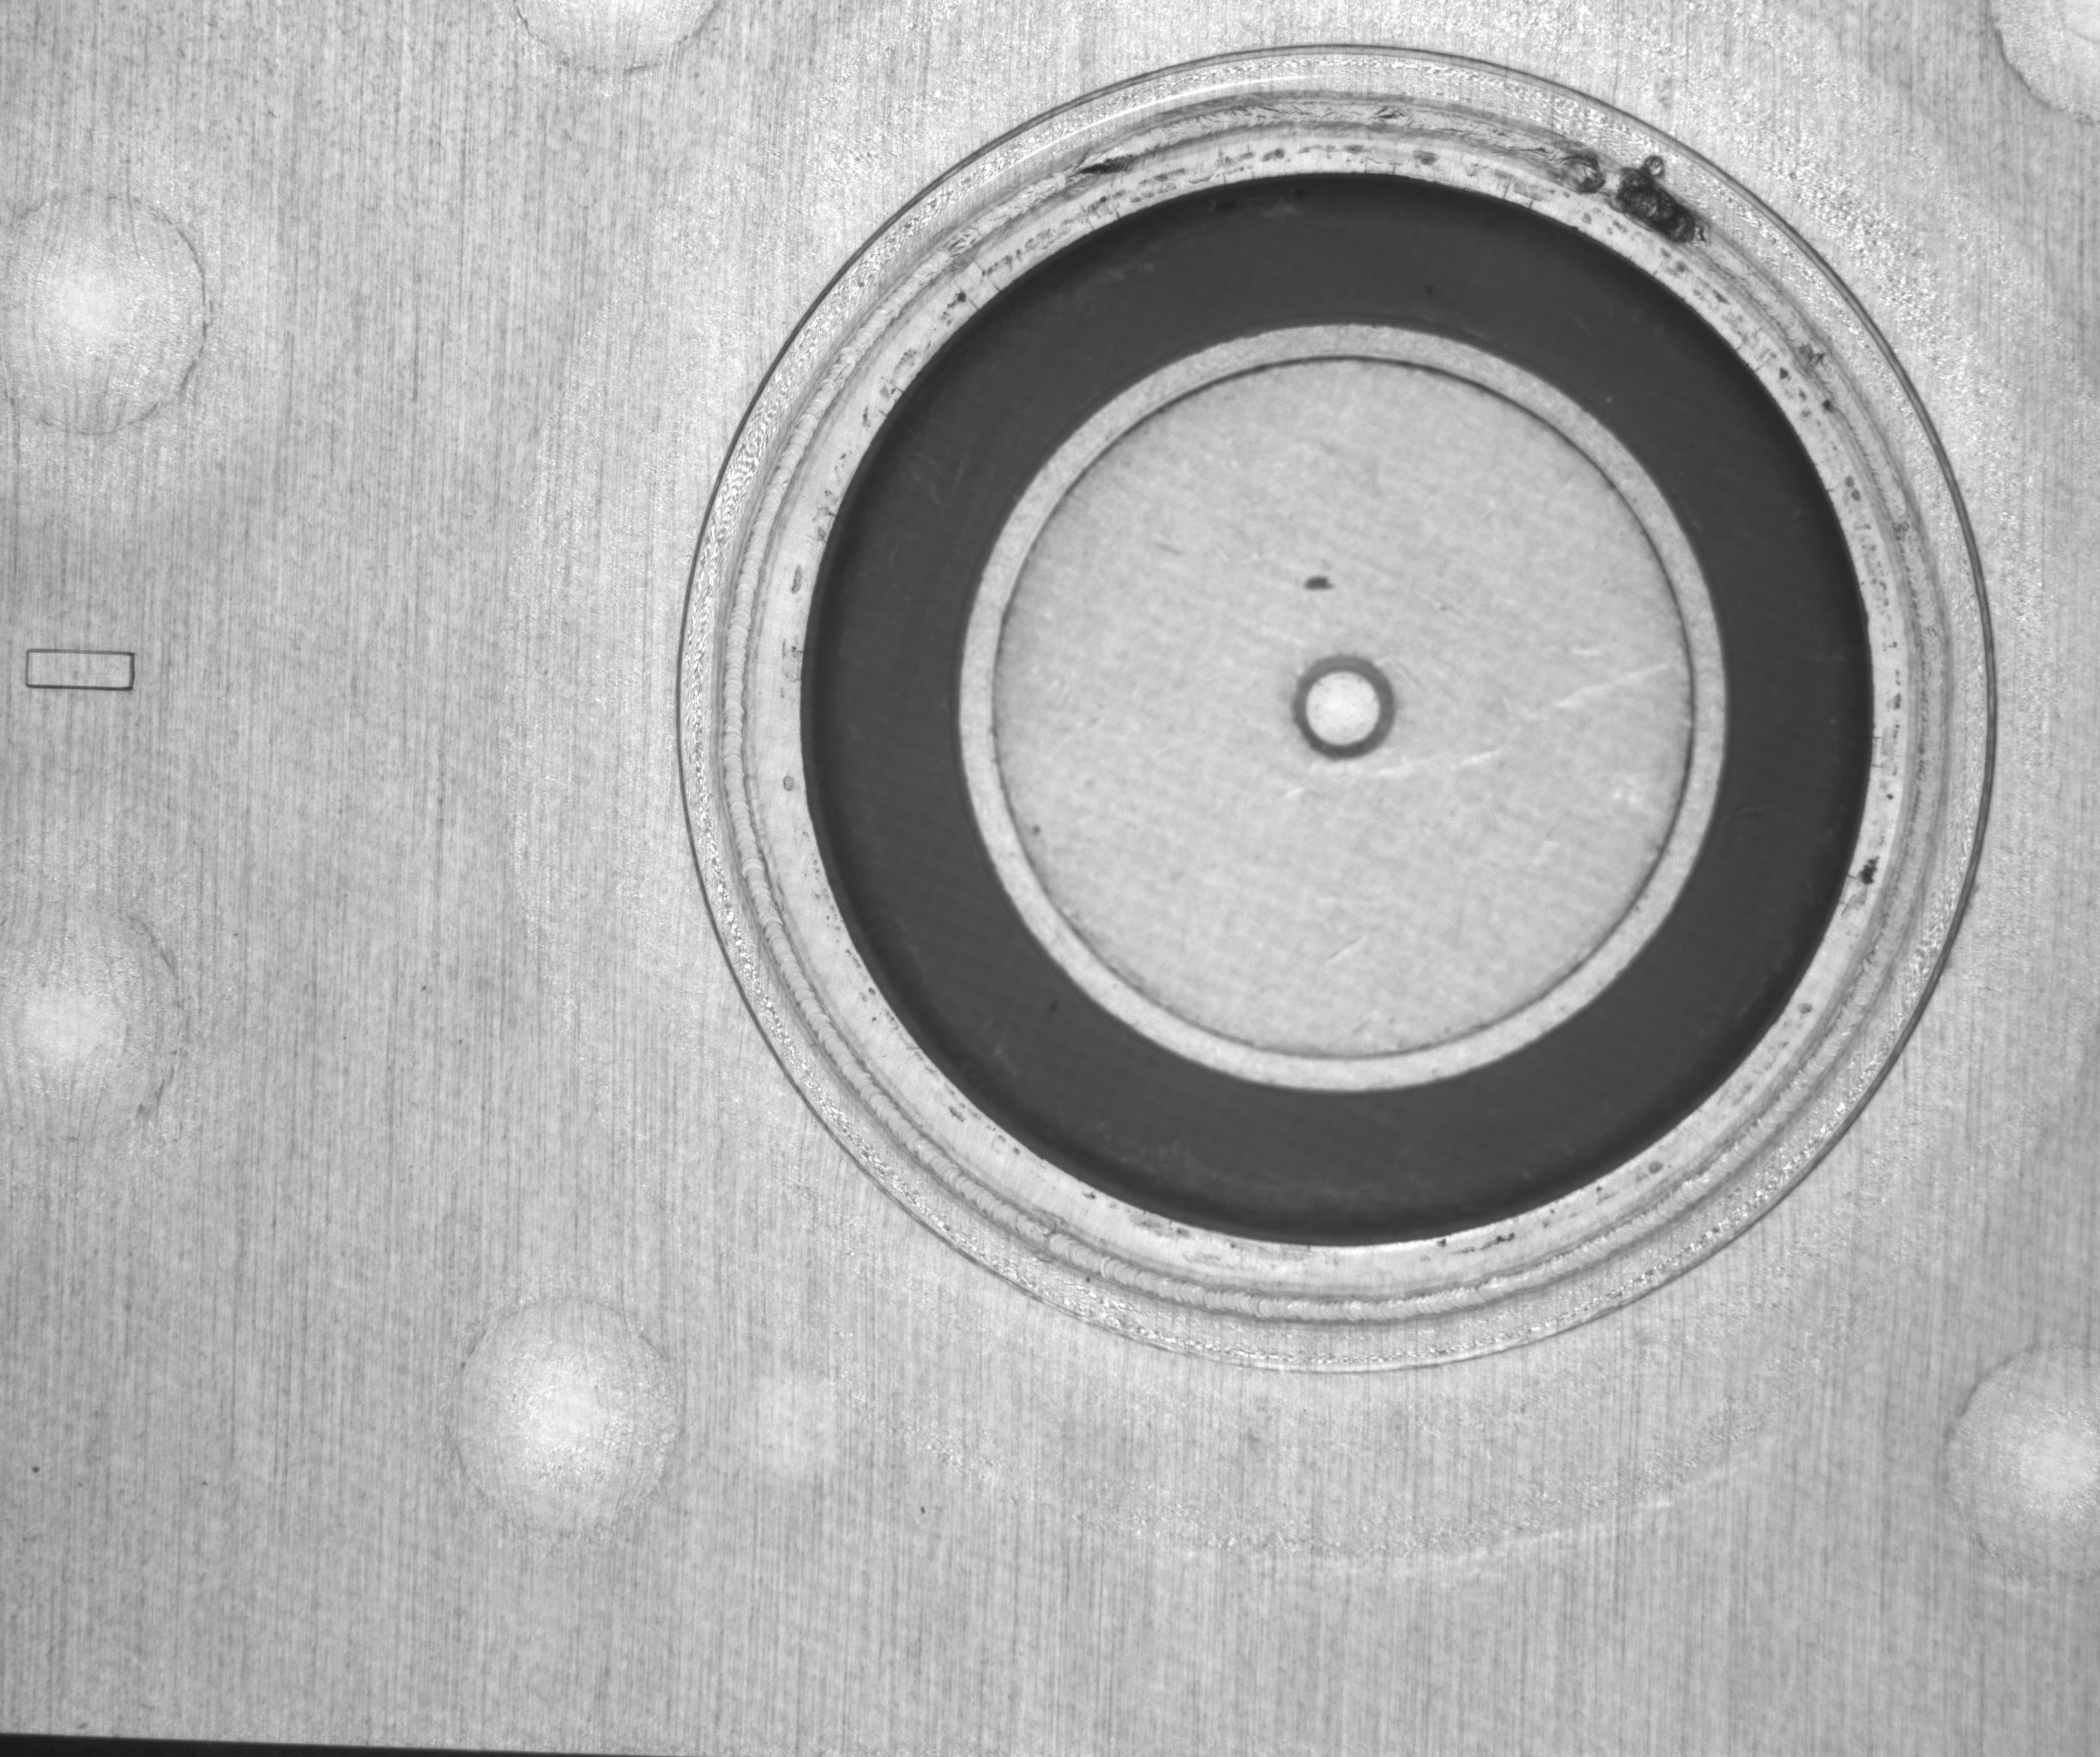continuousholes: (1477, 91, 1749, 284)
